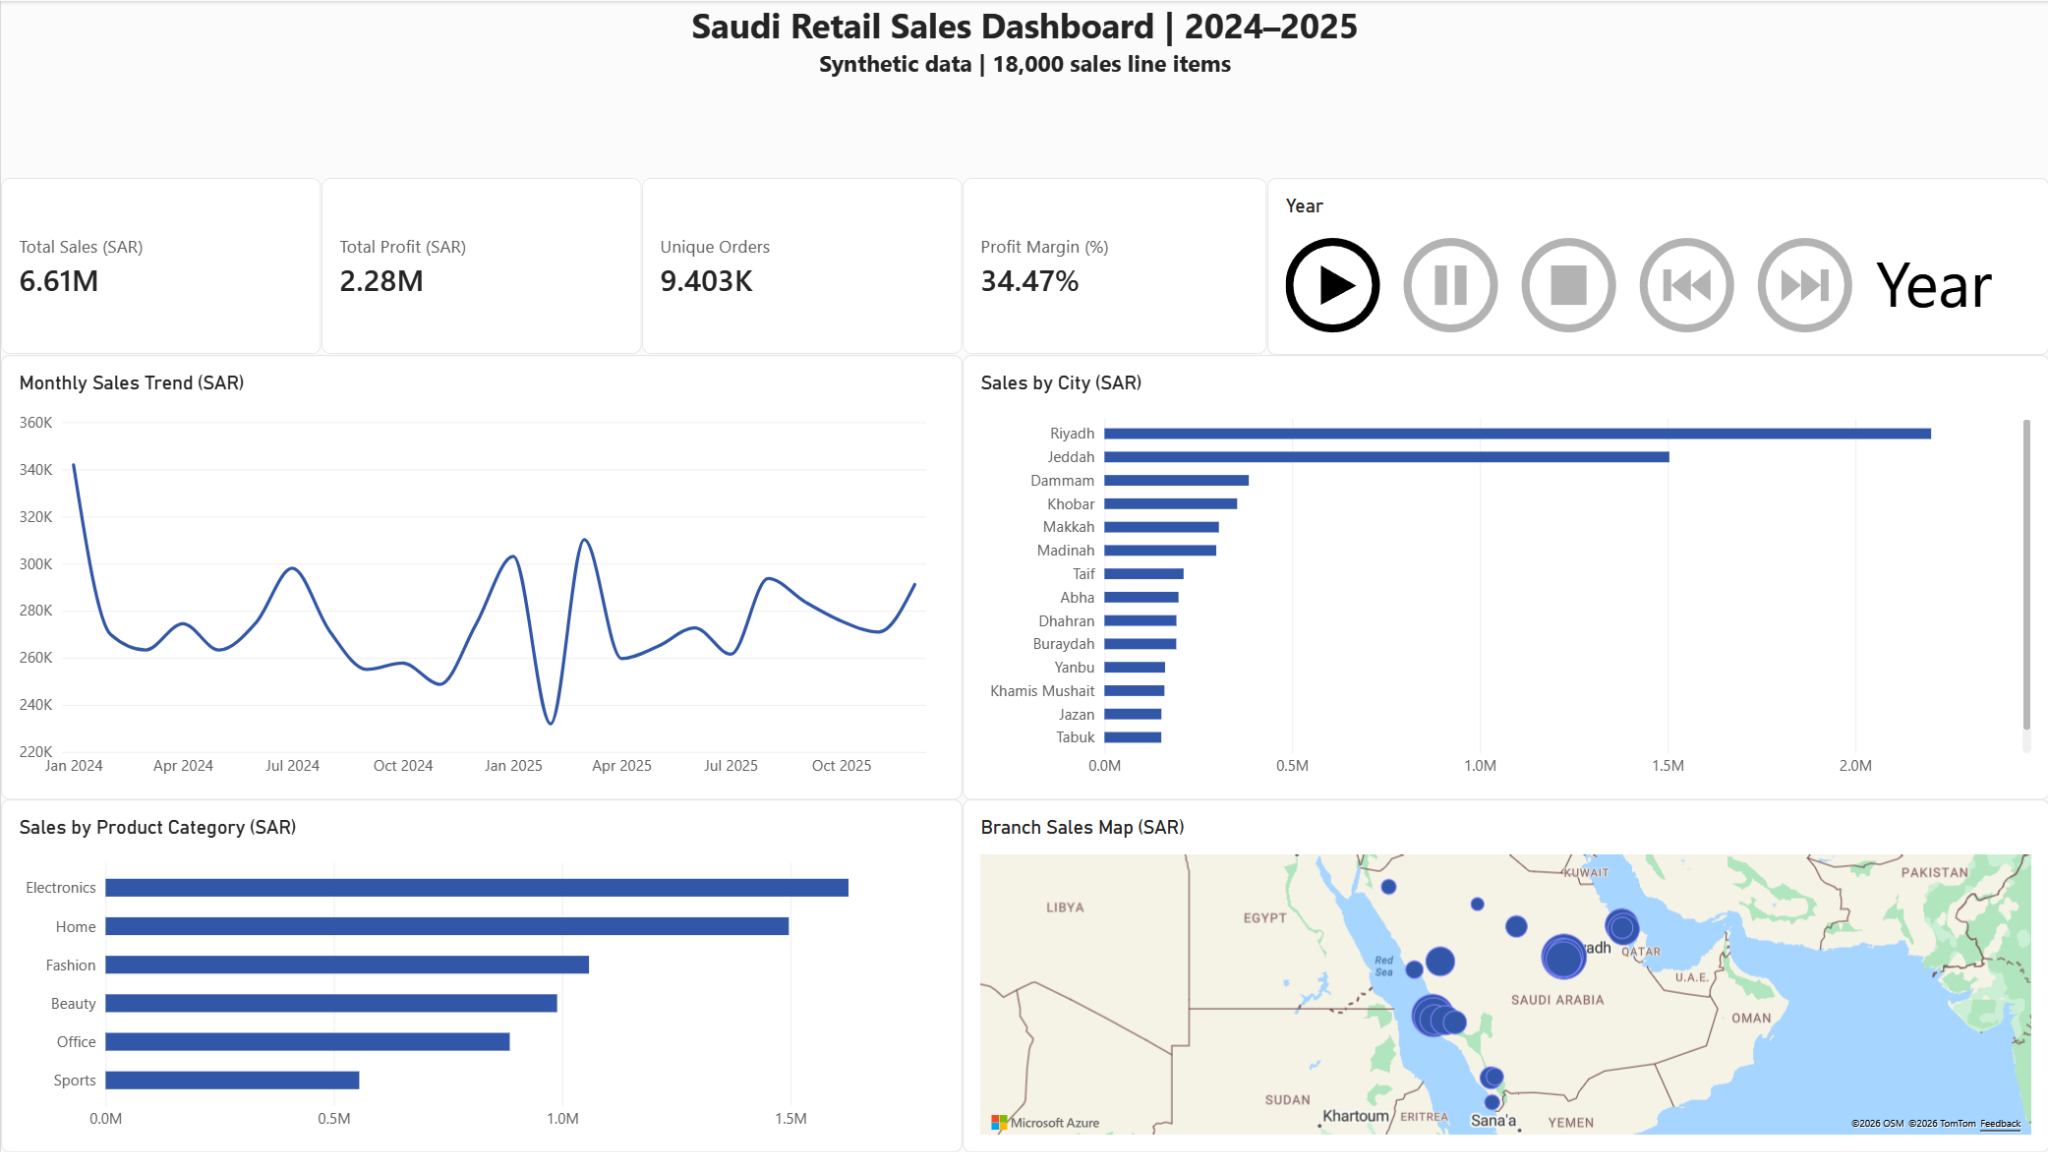

Layout of this report page (visuals, bound fields, positions):
{"tool":"powerbi","page":{"name":"Sales Overview","canvas":[1920,1080],"ordinal":0},"visuals":[{"type":"cardVisual","fields":{"Data":["Sum(RetailSales.revenue_sar)"]},"box":[0,165.9,300.4,165.9],"z":0},{"type":"cardVisual","fields":{"Data":["Sum(RetailSales.profit_sar)"]},"box":[300.4,165.9,300.4,165.9],"z":1000},{"type":"cardVisual","fields":{"Data":["Count(RetailSales.order_id)"]},"box":[600.8,165.9,300.4,165.9],"z":2000},{"type":"clusteredBarChart","title":"Sales by City (SAR)","fields":{"Category":["RetailSales.city"],"Y":["Sum(RetailSales.revenue_sar)"]},"box":[901.4,331.4,1018.6,417.1],"z":3000},{"type":"lineChart","title":"Monthly Sales Trend (SAR)","fields":{"Category":["RetailSales.order_date.Variation.Date Hierarchy.Year","RetailSales.order_date.Variation.Date Hierarchy.Quarter","RetailSales.order_date.Variation.Date Hierarchy.Month","RetailSales.order_date.Variation.Date Hierarchy.Day"],"Y":["Sum(RetailSales.revenue_sar)"]},"box":[0,331.4,901.4,417.1],"z":5000},{"type":"clusteredBarChart","title":"Sales by Product Category (SAR)","fields":{"Category":["RetailSales.category"],"Y":["Sum(RetailSales.revenue_sar)"]},"box":[0,748.6,901.4,331.4],"z":6000},{"type":"map","title":"Branch Sales Map (SAR)","fields":{"Size":["Sum(RetailSales.revenue_sar)"],"X":["RetailSales.longitude"],"Y":["RetailSales.latitude"]},"box":[901.4,748.6,1018.6,331.4],"z":7000},{"type":"textbox","box":[0,0,1920,165.7],"z":8000},{"type":"cardVisual","fields":{"Data":["RetailSales.Percentage (%)"]},"box":[901.4,165.7,285.7,165.7],"z":9000},{"type":"PBI_CV_16948668_E17D_454B_8664_2F2C470EA8C1","fields":{"category":["RetailSales.Year"]},"box":[1187.1,165.7,732.9,165.7],"z":10000}]}

Visuals, with their boxes in screenshot pixels (x1, y1, x2, y2), scaled from the page's 1920x1080 canvas onto the 2048x1152 screenshot:
cardVisual - Sum(RetailSales.revenue_sar): bbox(0, 177, 320, 354)
cardVisual - Sum(RetailSales.profit_sar): bbox(320, 177, 641, 354)
cardVisual - Count(RetailSales.order_id): bbox(641, 177, 961, 354)
"Sales by City (SAR)" clusteredBarChart: bbox(961, 353, 2047, 798)
"Monthly Sales Trend (SAR)" lineChart: bbox(0, 353, 961, 798)
"Sales by Product Category (SAR)" clusteredBarChart: bbox(0, 799, 961, 1151)
"Branch Sales Map (SAR)" map: bbox(961, 799, 2047, 1151)
textbox: bbox(0, 0, 2047, 177)
cardVisual - RetailSales.Percentage (%): bbox(961, 177, 1266, 353)
PBI_CV_16948668_E17D_454B_8664_2F2C470EA8C1 - RetailSales.Year: bbox(1266, 177, 2047, 353)
